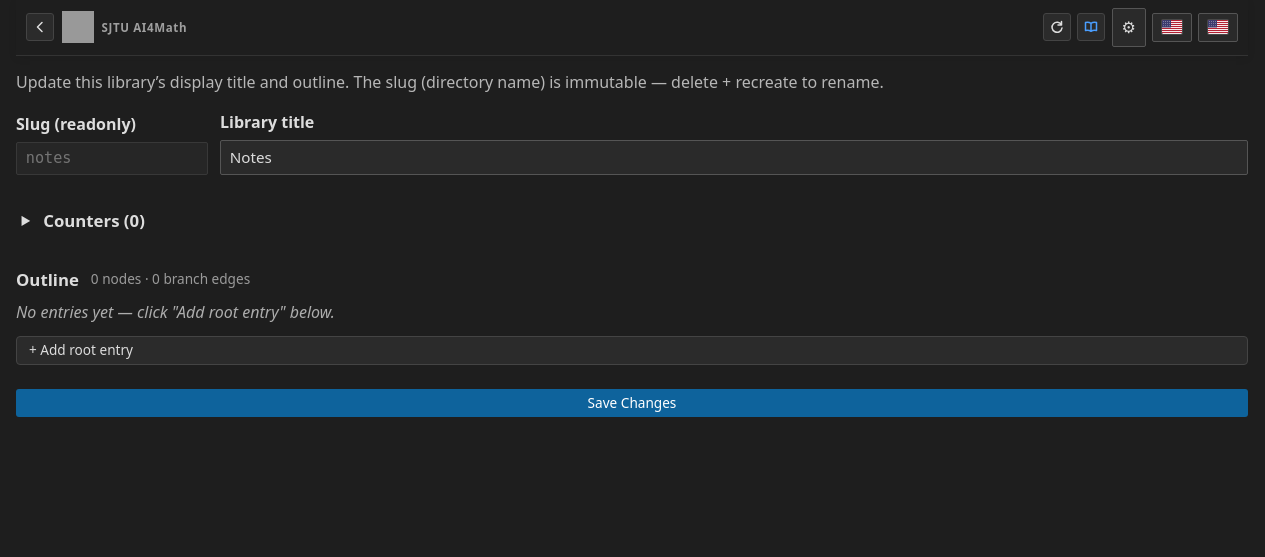
Scenario: localizes the pending lookup live while preserving request identity and the create guard
Click the button "+ Add root entry": (81, 350) [16, 336, 1248, 365]
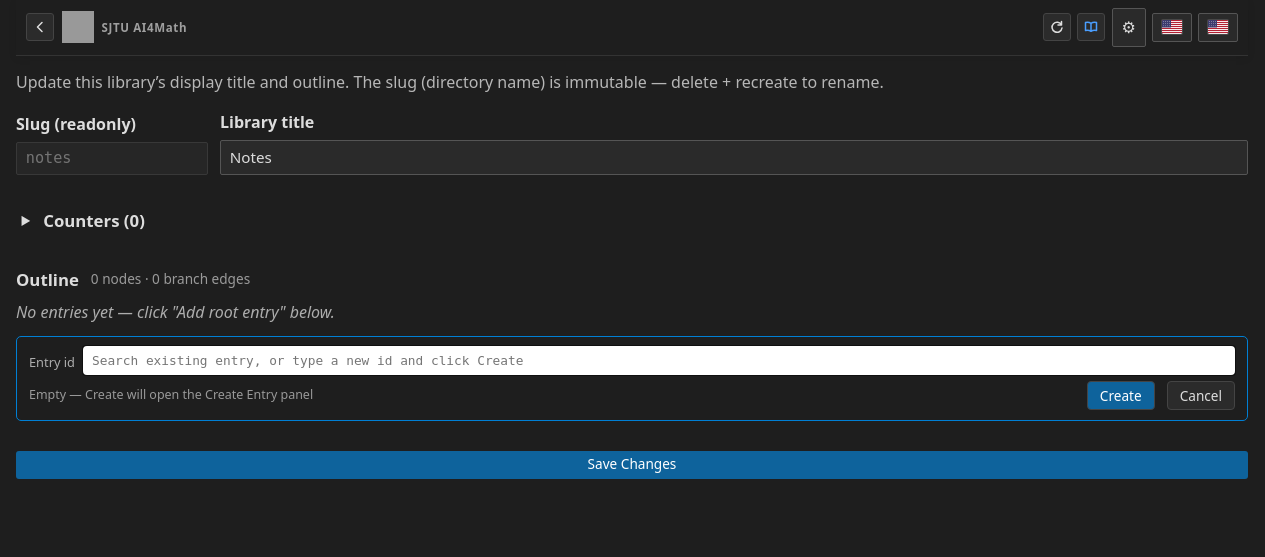
In the dropdown with placeholder "Search existing entry, or type a new id and click Create": (659, 360) [83, 346, 1235, 374], type "Off.graph"
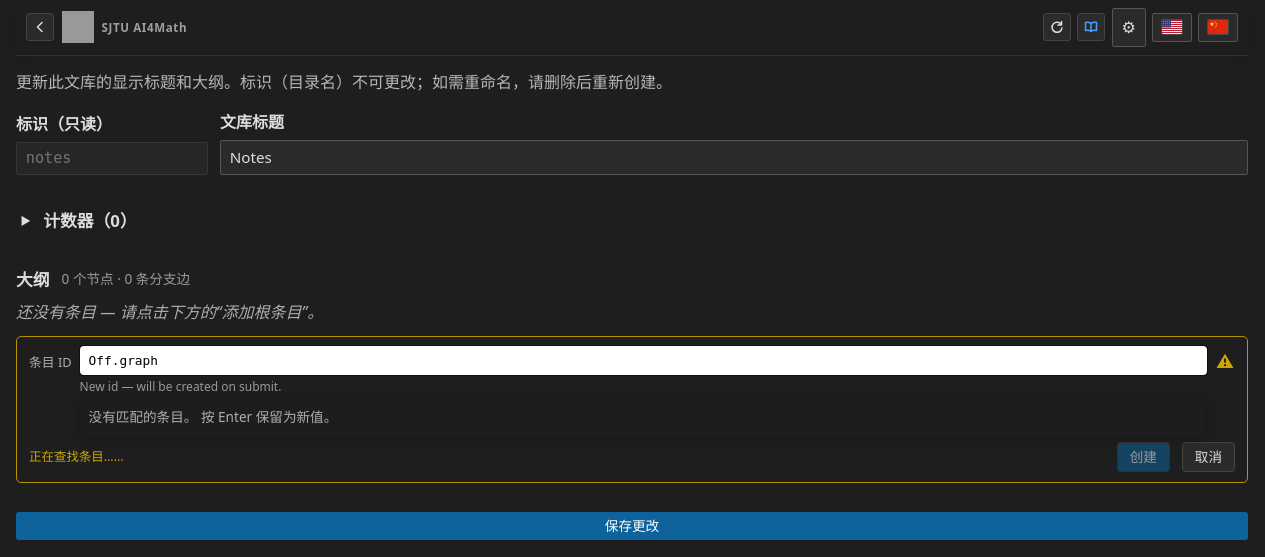
Result: the text "正在查找条目……" is shown at [29, 448, 124, 465]
Result: the button "创建" is disabled
Click the button "创建": (1143, 457) [1117, 442, 1170, 472]
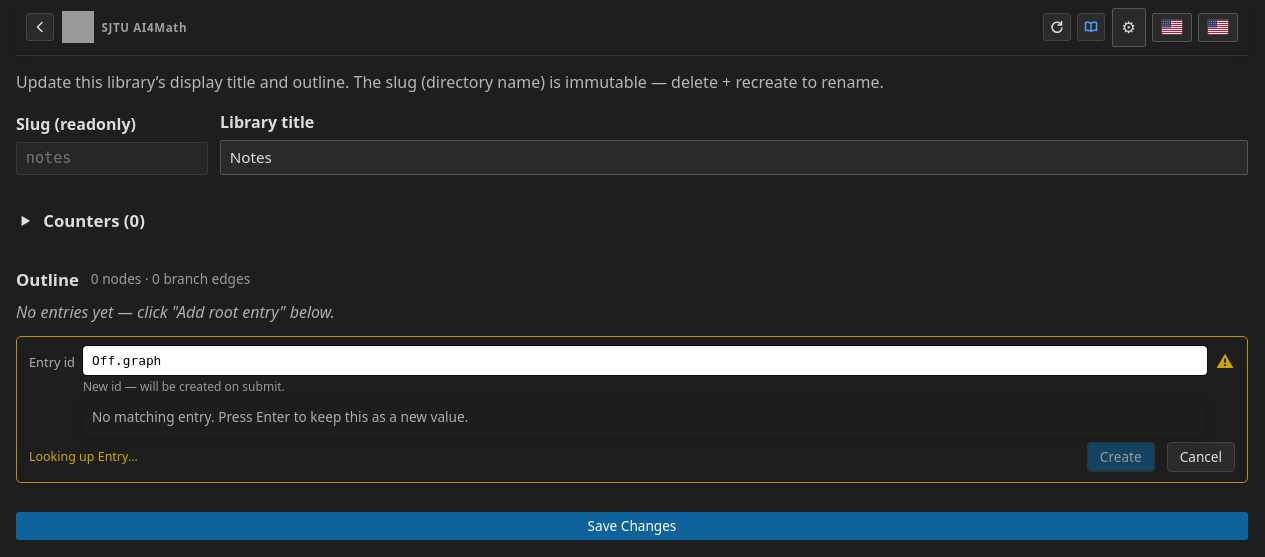
Result: the text "Looking up Entry…" is shown at [29, 448, 138, 465]
